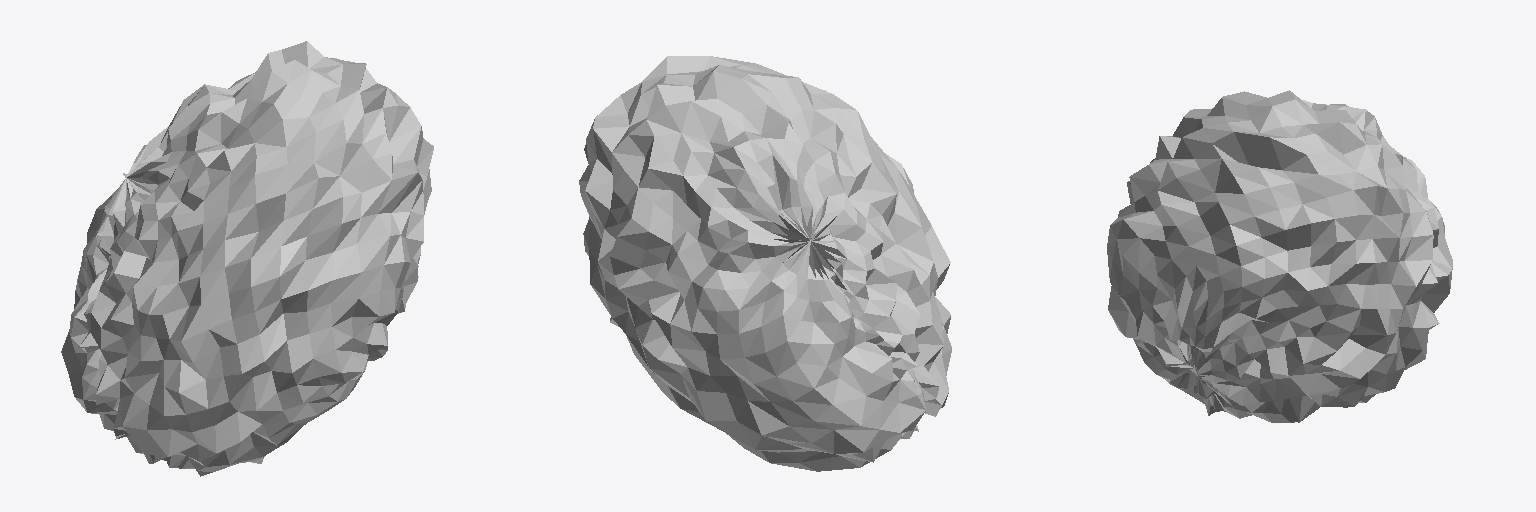
File: platlet.obj
3 views of the same model, side by side, from view 1: azimuth 30°, elevation 25°; view 2: azimuth 150°, elevation 25°; view 3: azimuth 270°, elevation 25° (orthographic).
Visible parts, largest first — view 1: Platelet.005; view 2: Platelet.005; view 3: Platelet.005.
Part boxes in pixels (x1,y1,x2,y2): Platelet.005: (61,41,433,476); Platelet.005: (579,56,951,471); Platelet.005: (1107,90,1452,422).
Size of the model in its own units: 0.6861 by 0.7087 by 0.6196.